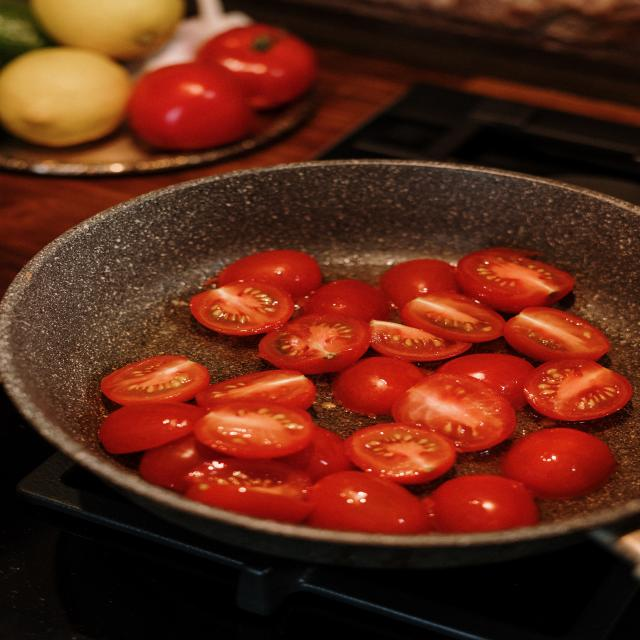Tomato: (460, 238, 587, 312), (188, 399, 330, 463), (425, 365, 517, 451), (409, 285, 512, 359), (258, 313, 372, 371), (200, 274, 300, 333), (358, 421, 457, 478), (119, 342, 207, 406)
